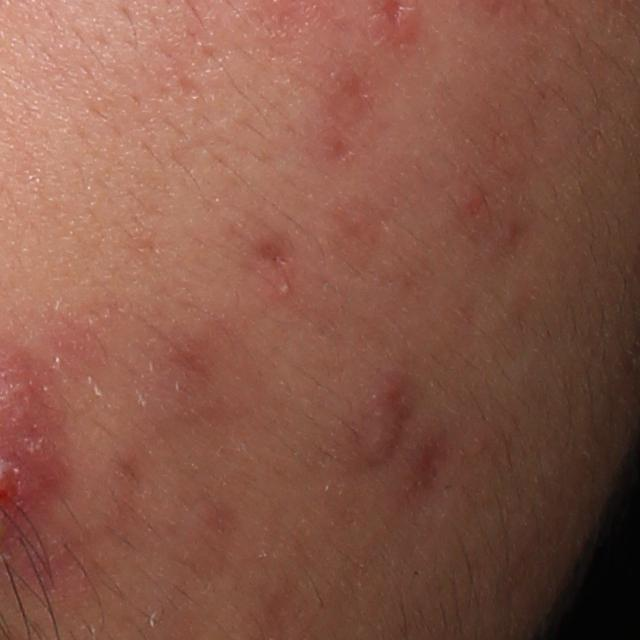papule: (351, 398, 411, 471), (7, 420, 69, 467)
